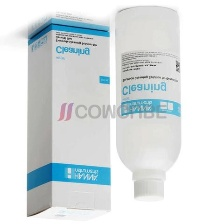book: (22, 17, 114, 222)
cleaning_solution: (111, 4, 183, 206)
